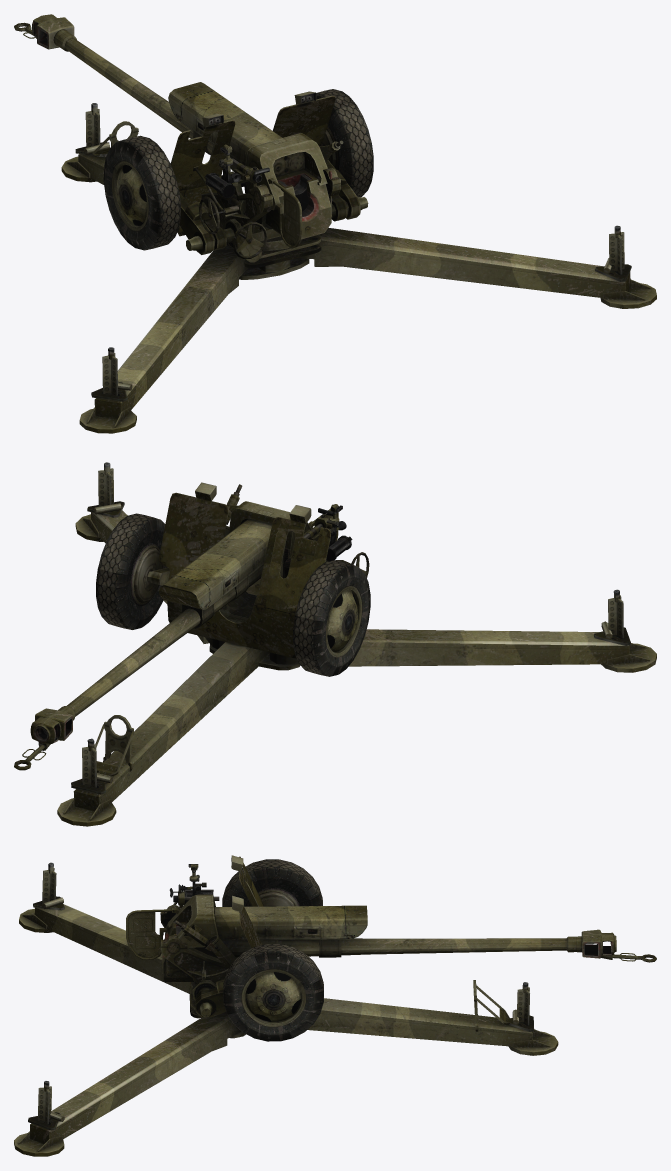
Rendered from d-30_howitzer.glb.
The picture shows the model from 3 angles, top to bottom: view 1: azimuth 30°, elevation 25°; view 2: azimuth 150°, elevation 25°; view 3: azimuth 270°, elevation 25°; orthographic projection. The views are drawn at different scales.
Visible parts, largest first — view 1: Object_2; view 2: Object_2; view 3: Object_2.
Boxes of the visible parts, bbox=[...] form: Object_2: bbox=[14, 14, 656, 433]; Object_2: bbox=[14, 462, 656, 826]; Object_2: bbox=[14, 855, 656, 1156].
Bounding box in the file's own units: 24.84 × 8.12 × 27.47.
1 material, 1 textured.
